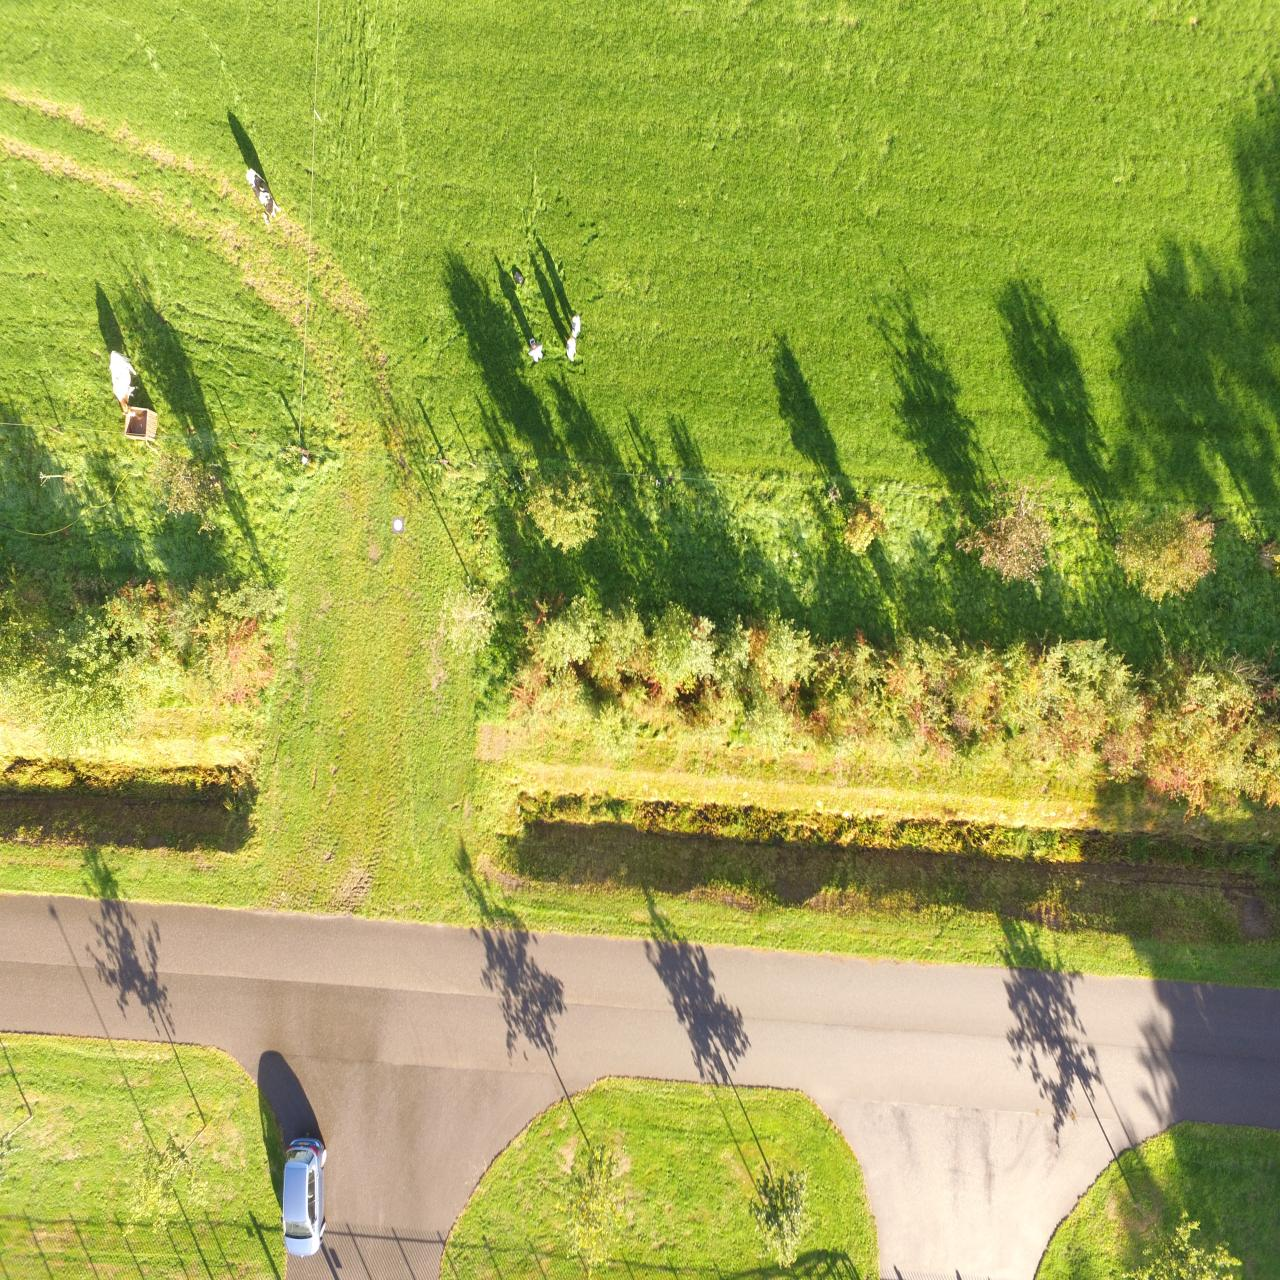cow: (244, 168, 281, 225), (107, 349, 136, 415)
